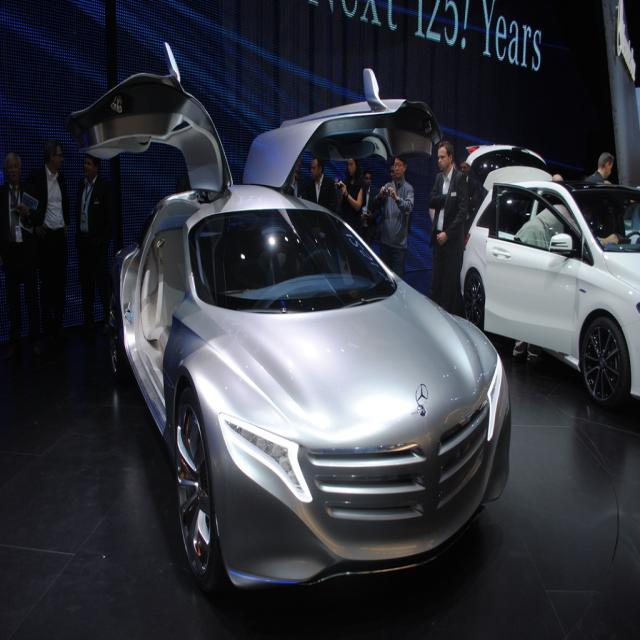car: (64, 39, 511, 603)
